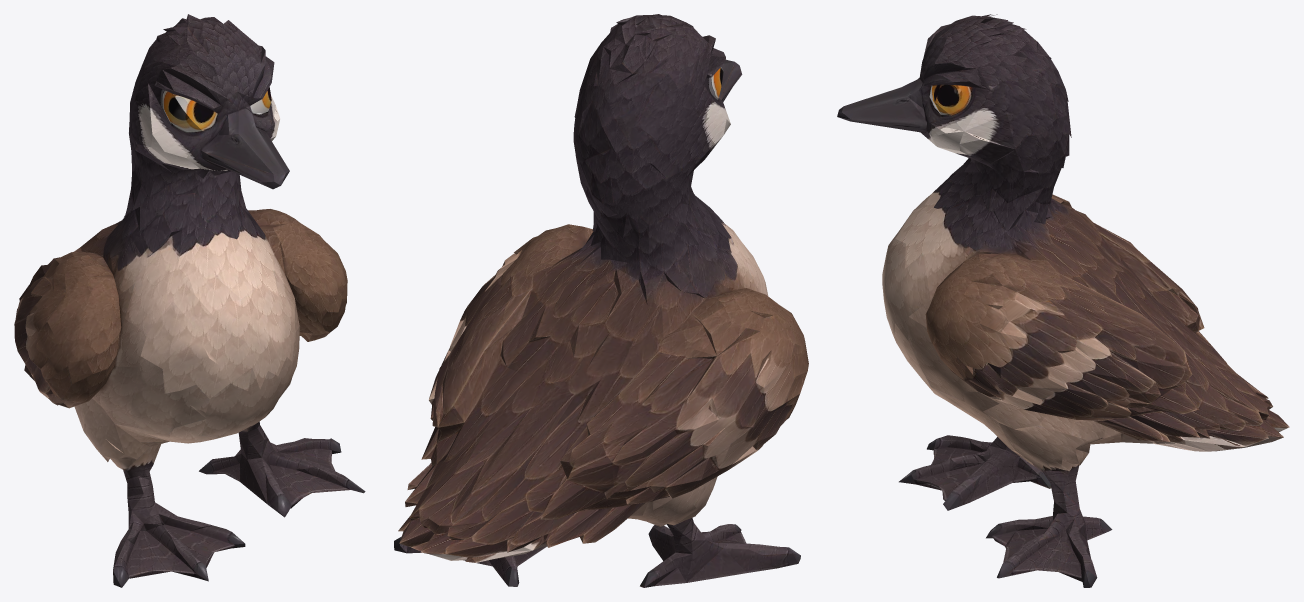
The model's file is goose.glb.
3 renders of one model, left to right at view 1: azimuth 30°, elevation 25°; view 2: azimuth 150°, elevation 25°; view 3: azimuth 270°, elevation 25°, orthographic. The views are drawn at different scales.
Size of the model in its own units: 0.5588 by 0.8 by 0.6805.
Materials: 1 (1 with a texture image).
